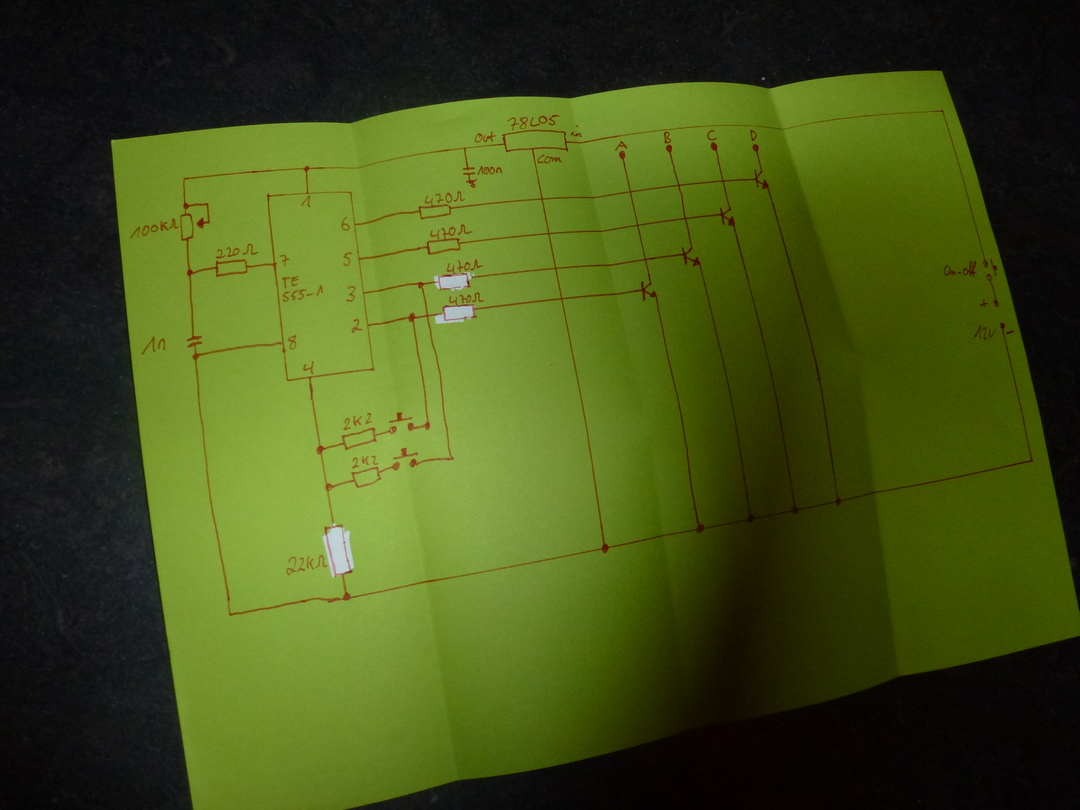capacitor.unpolarized: (185, 333, 203, 349), (460, 165, 478, 176)
crossover: (715, 175, 731, 187), (543, 227, 556, 239), (535, 193, 549, 204), (549, 263, 562, 274), (680, 213, 693, 224), (672, 180, 685, 191), (624, 186, 636, 197), (639, 254, 651, 265), (557, 294, 568, 304), (632, 219, 642, 230), (422, 311, 433, 320)
gnd: (465, 178, 480, 190)
integrated_cricuit.ne555: (265, 189, 376, 383)
junction: (339, 591, 353, 604), (832, 495, 845, 508), (694, 522, 706, 536), (599, 542, 611, 555), (406, 311, 418, 324), (415, 279, 427, 292), (324, 481, 336, 493), (184, 267, 196, 279), (744, 513, 756, 524), (315, 444, 327, 455), (789, 505, 800, 516), (225, 609, 236, 620), (201, 199, 213, 209), (178, 174, 190, 184), (191, 351, 201, 362), (423, 420, 432, 432), (447, 453, 456, 464), (302, 163, 311, 174), (180, 200, 189, 209), (461, 144, 470, 153), (939, 107, 947, 115), (1027, 457, 1035, 464)
resistor: (323, 521, 354, 578), (340, 427, 379, 450), (351, 465, 383, 489), (212, 259, 251, 278), (441, 303, 479, 322), (425, 237, 463, 255), (436, 273, 474, 291), (414, 203, 454, 219)
resistor.adjustable: (179, 211, 211, 241)
switch: (387, 409, 415, 436), (391, 446, 419, 472), (981, 257, 1000, 283)
terminal: (708, 140, 720, 153), (617, 149, 628, 162), (664, 144, 676, 155), (750, 142, 762, 153), (991, 297, 1001, 308), (998, 320, 1008, 331)
text: (280, 274, 325, 304), (129, 217, 179, 238), (285, 554, 329, 577), (507, 113, 560, 131), (429, 223, 473, 240), (214, 243, 258, 260), (423, 190, 466, 206), (943, 260, 978, 278), (446, 258, 483, 274), (342, 411, 373, 430), (447, 292, 485, 305), (141, 336, 166, 355), (351, 454, 379, 469), (973, 325, 997, 341), (477, 164, 503, 176), (537, 153, 563, 165), (343, 284, 358, 303), (474, 130, 495, 143), (349, 317, 364, 334), (278, 252, 292, 268), (341, 251, 354, 268), (339, 215, 352, 232), (286, 333, 298, 351), (302, 360, 315, 376), (569, 124, 583, 138), (300, 194, 313, 208), (706, 128, 718, 141), (615, 140, 629, 151), (663, 131, 673, 144), (749, 128, 758, 141)
transistor: (639, 278, 659, 302), (681, 246, 703, 267), (752, 167, 771, 191), (719, 206, 738, 228)
voltage.dc_regulator: (500, 128, 570, 154)
